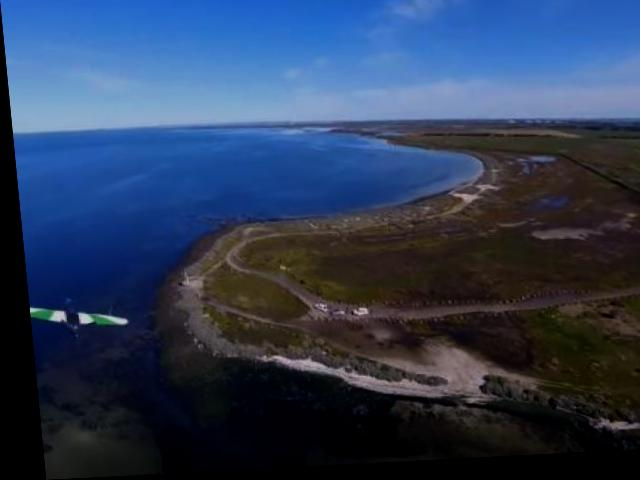uav: (23, 295, 128, 335)
